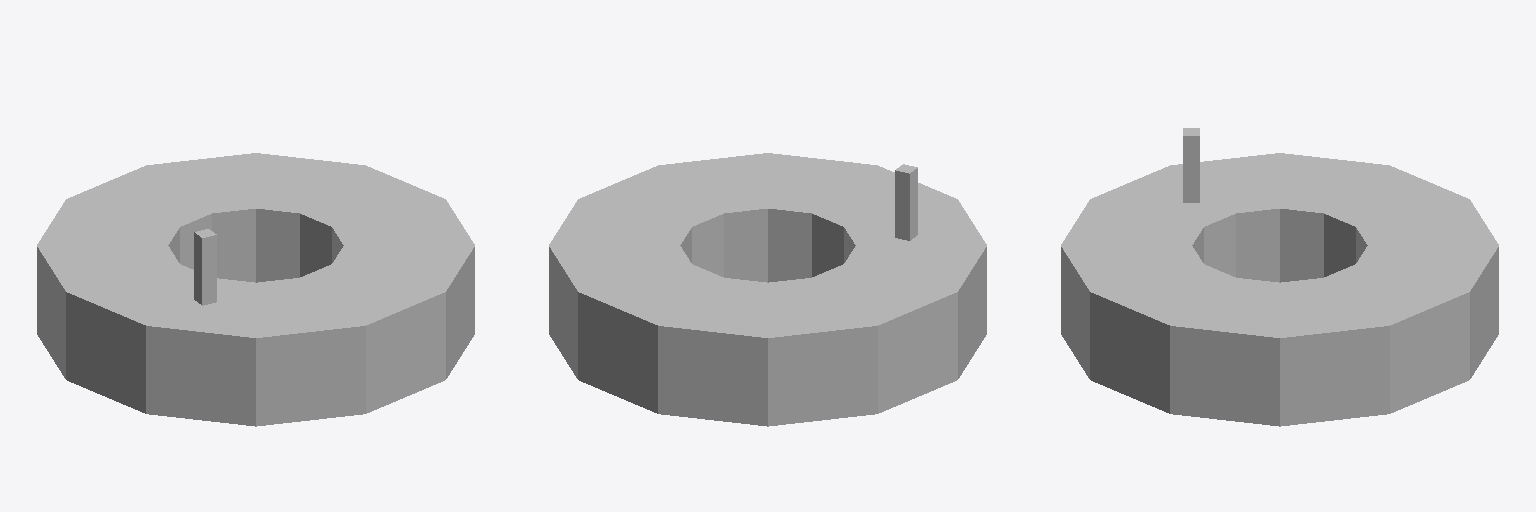
The model's file is grindstone_top.obj.
3 views of the same model, side by side, from view 1: azimuth 30°, elevation 25°; view 2: azimuth 150°, elevation 25°; view 3: azimuth 270°, elevation 25° (orthographic).
Parts seen in each view (by area): view 1: Cube_Cube.002; view 2: Cube_Cube.002; view 3: Cube_Cube.002.
Boxes of the visible parts, <box> form: Cube_Cube.002: <box>37,153,474,426</box>; Cube_Cube.002: <box>549,153,986,426</box>; Cube_Cube.002: <box>1061,128,1498,426</box>.
Size of the model in its own units: 0.9 by 0.3528 by 0.9.